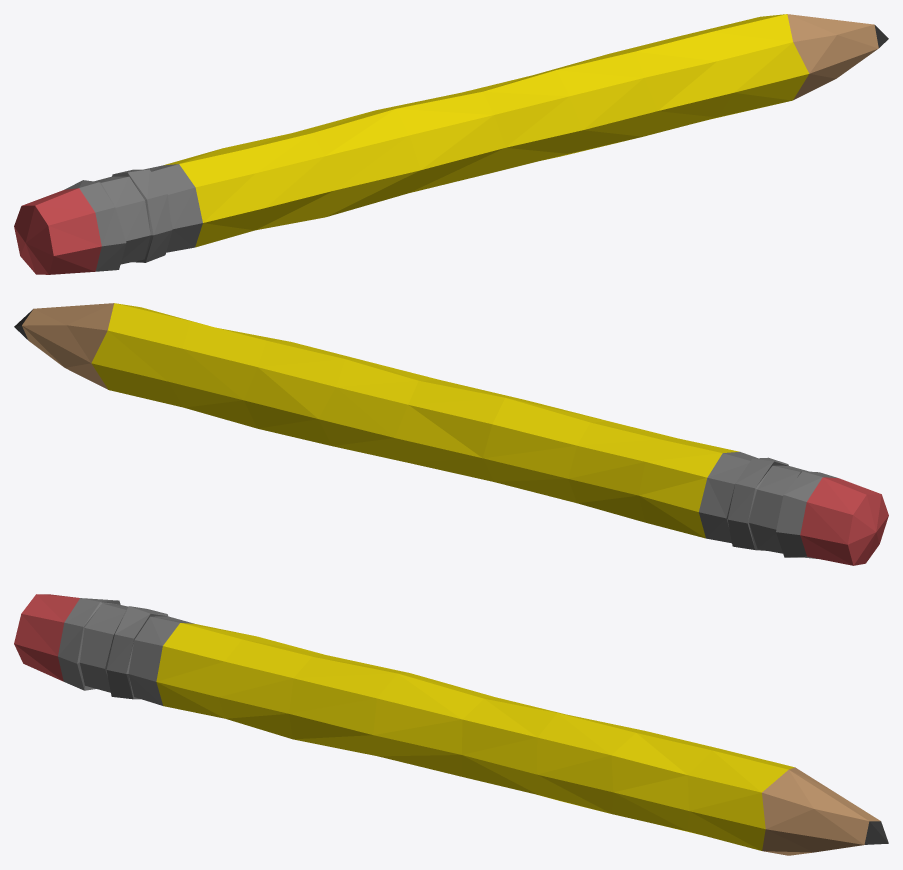
The model's file is item_pencil.fbx.
3 renders of one model, top to bottom at view 1: azimuth 30°, elevation 25°; view 2: azimuth 150°, elevation 25°; view 3: azimuth 330°, elevation 25°, orthographic.
Visible parts, largest first — view 1: item_pencil; view 2: item_pencil; view 3: item_pencil.
Part boxes in pixels (left/top/right/bottom): item_pencil: left=14, top=14, right=888, bottom=274; item_pencil: left=14, top=303, right=888, bottom=565; item_pencil: left=14, top=594, right=888, bottom=855.
Size of the model in its own units: 22.47 by 2.24 by 2.26.
